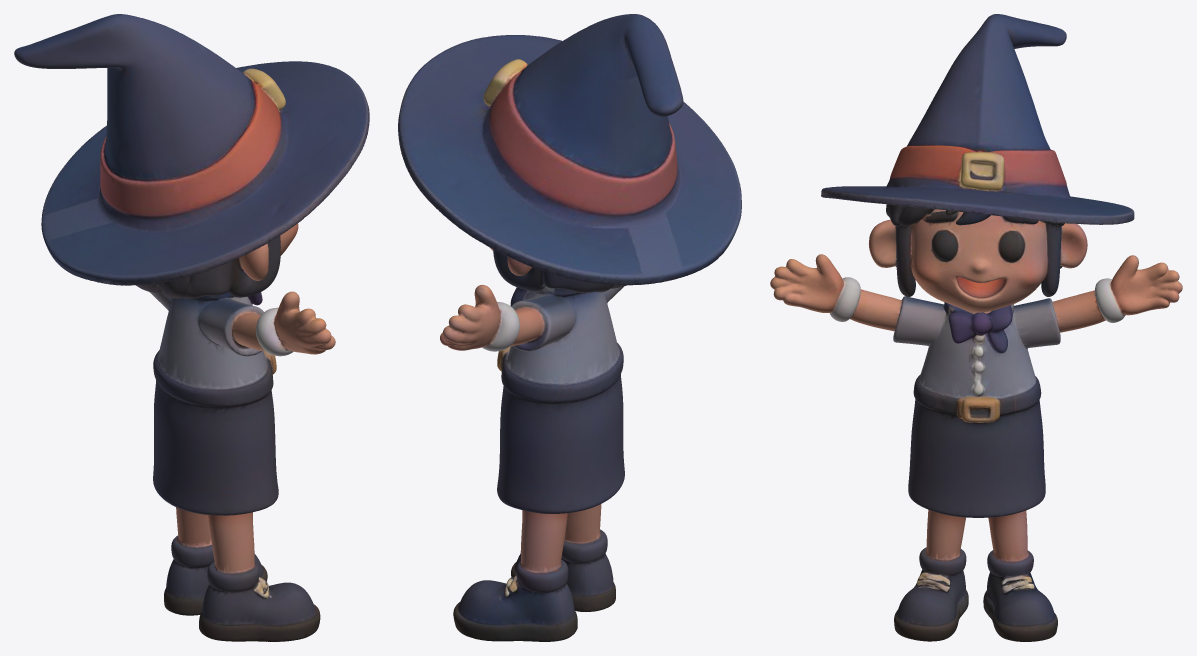
Rendered from witch.glb.
The picture shows the model from 3 angles, left to right: view 1: azimuth 30°, elevation 25°; view 2: azimuth 150°, elevation 25°; view 3: azimuth 270°, elevation 25°; orthographic projection. The views are drawn at different scales.
Parts seen in each view (by area): view 1: tripo_node_2d92db69-0ff3-49e2-8e3e-bd4b882d2d30; view 2: tripo_node_2d92db69-0ff3-49e2-8e3e-bd4b882d2d30; view 3: tripo_node_2d92db69-0ff3-49e2-8e3e-bd4b882d2d30.
Boxes of the visible parts, x1,y1,x2,y2 form: tripo_node_2d92db69-0ff3-49e2-8e3e-bd4b882d2d30: [14, 14, 369, 641]; tripo_node_2d92db69-0ff3-49e2-8e3e-bd4b882d2d30: [398, 14, 741, 641]; tripo_node_2d92db69-0ff3-49e2-8e3e-bd4b882d2d30: [770, 14, 1182, 641].
Bounding box in the file's own units: 0.4899 × 0.9999 × 0.6689.
1 material, 1 textured.
